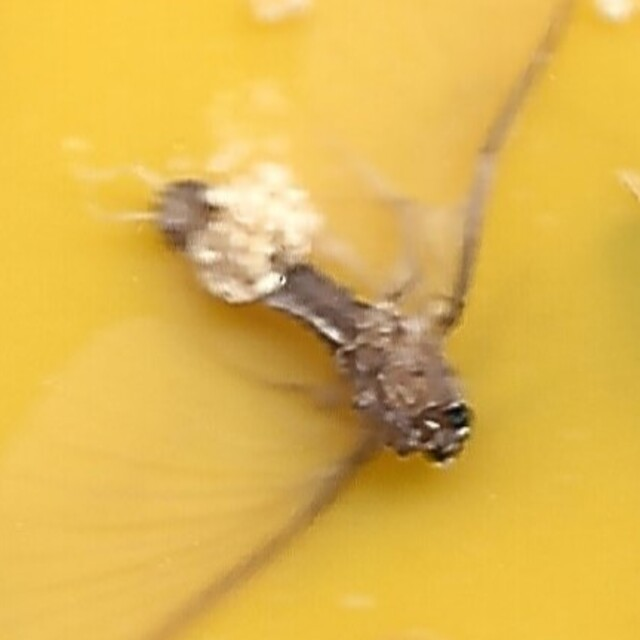Ephemeroptera: (148, 186, 492, 454)
